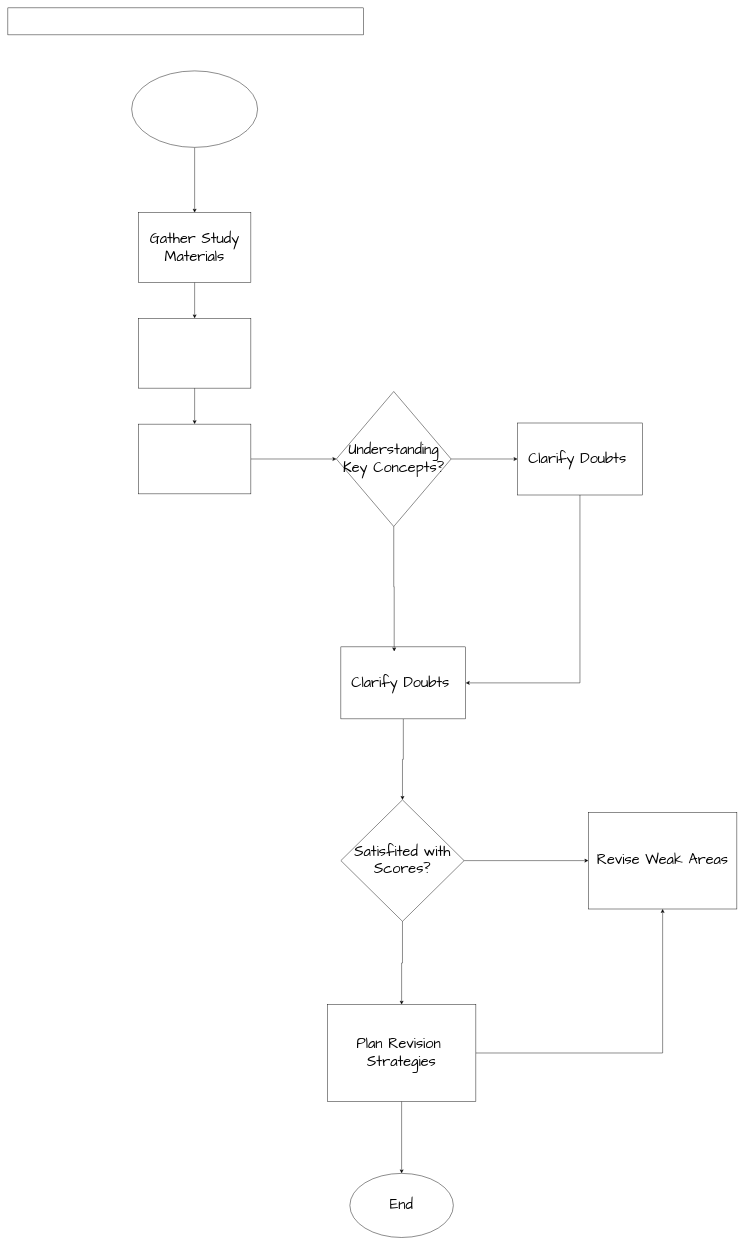
Some shapes in this 745 by 1246 pixel diagram are drawn without their labels. Here are the shapes that lost their labels. From the top down, the box of each, then its label:
(7, 7, 363, 35): Students Improvement In Learning
(131, 70, 258, 147): START
(138, 318, 251, 388): Create a study schedule
(138, 424, 251, 494): Review Class Notes
